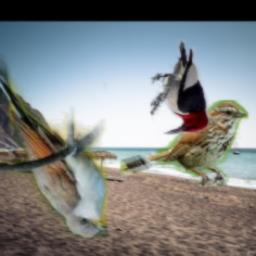Cuckoo: (0, 53, 108, 238)
Sparrow: (120, 101, 248, 187)
Woodpecker: (151, 38, 209, 134)
